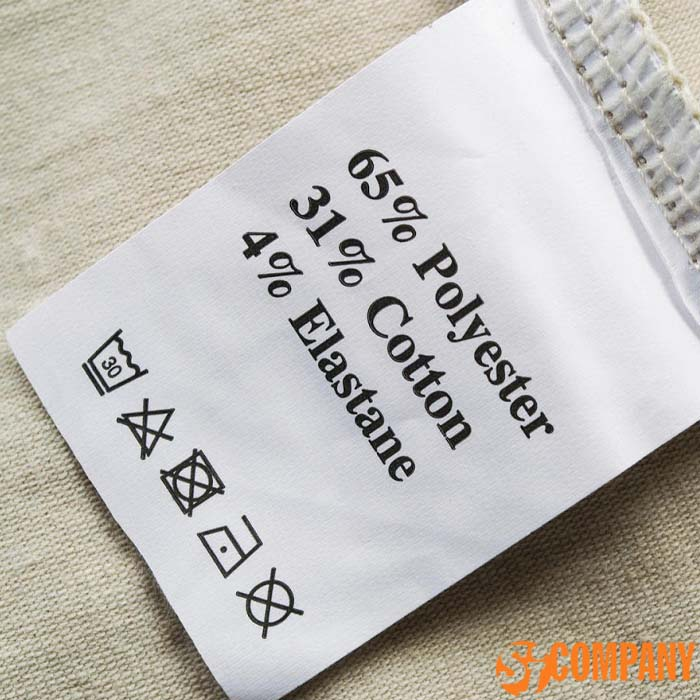ER_iron_low_temp: (197, 512, 266, 579)
ER_no_bleach: (113, 396, 176, 460)
ER_no_dry_clean: (233, 575, 304, 636)
ER_no_tumble_dry: (156, 449, 227, 516)
ER_wash_30_mild: (77, 325, 151, 397)
